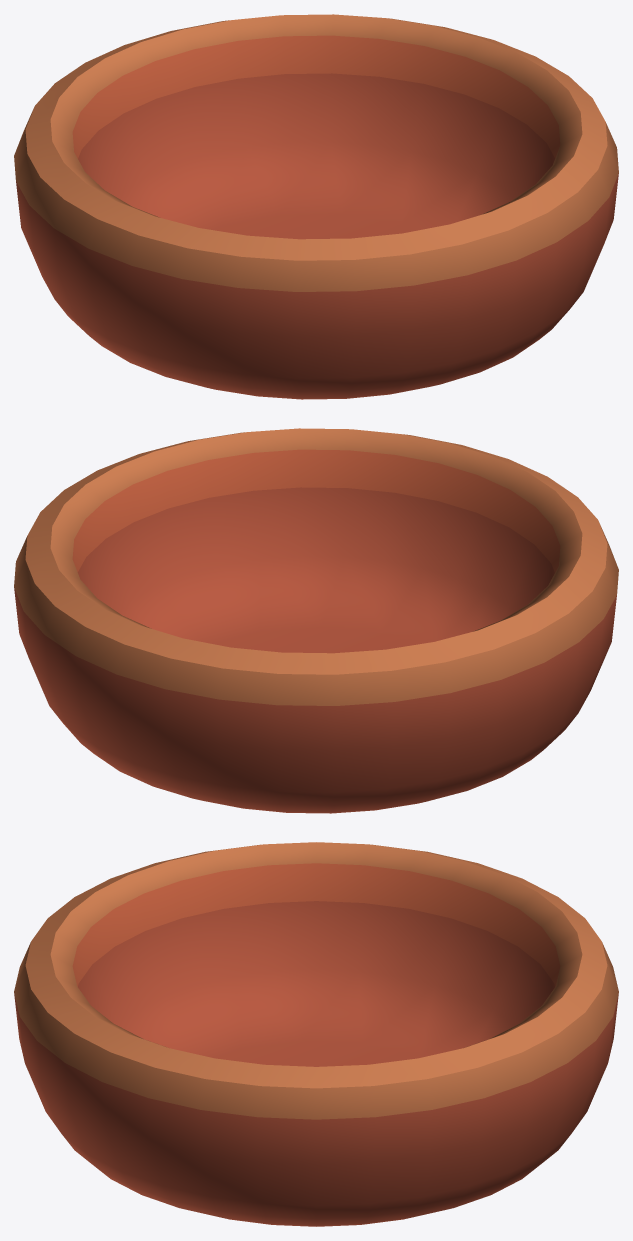
Rendered from tigela_natal_terracota_pacote.glb.
3 views of the same model, one above another, from view 1: azimuth 30°, elevation 25°; view 2: azimuth 150°, elevation 25°; view 3: azimuth 270°, elevation 25° (orthographic).
Parts seen in each view (by area): view 1: tigela_natal_terracota_pacote; view 2: tigela_natal_terracota_pacote; view 3: tigela_natal_terracota_pacote.
Part boxes in pixels (left/top/right/bottom): tigela_natal_terracota_pacote: left=14, top=14, right=618, bottom=399; tigela_natal_terracota_pacote: left=14, top=428, right=618, bottom=813; tigela_natal_terracota_pacote: left=14, top=842, right=618, bottom=1226.
Size of the model in its own units: 0.2176 by 0.0713 by 0.2176.
Materials: 1 (1 with a texture image).
